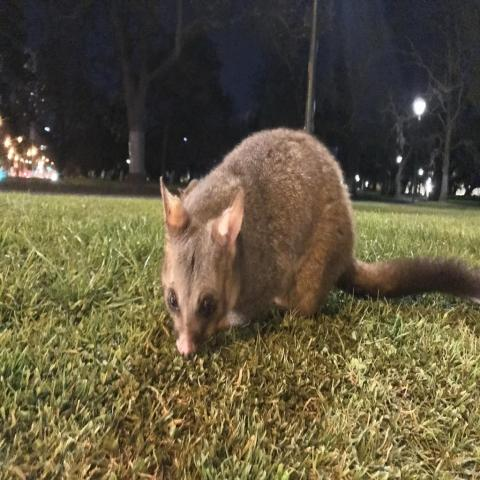small_animal: (157, 125, 478, 358)
